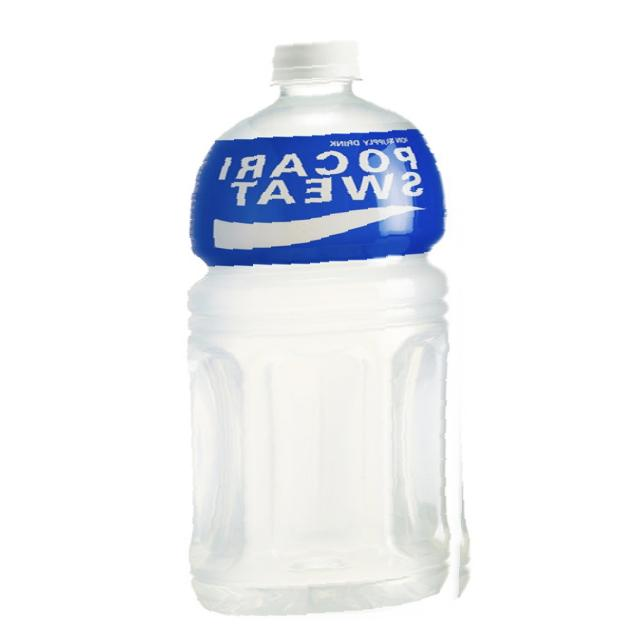recyclable: (160, 18, 480, 626)
